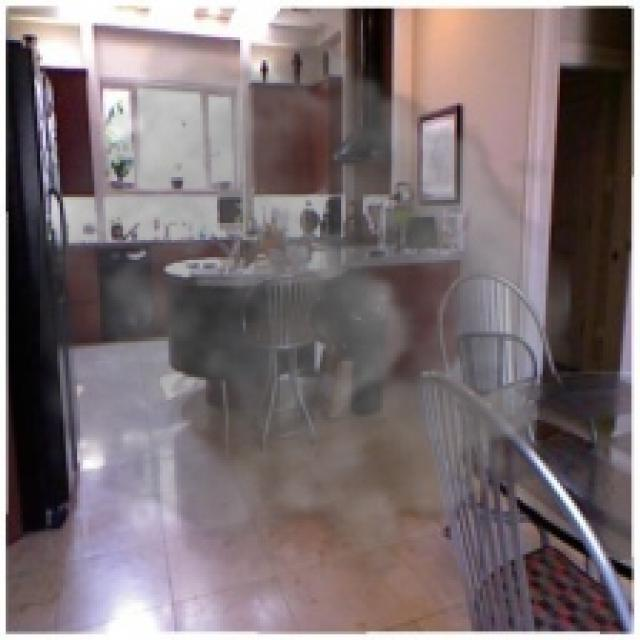Smoke: (39, 17, 572, 583)
